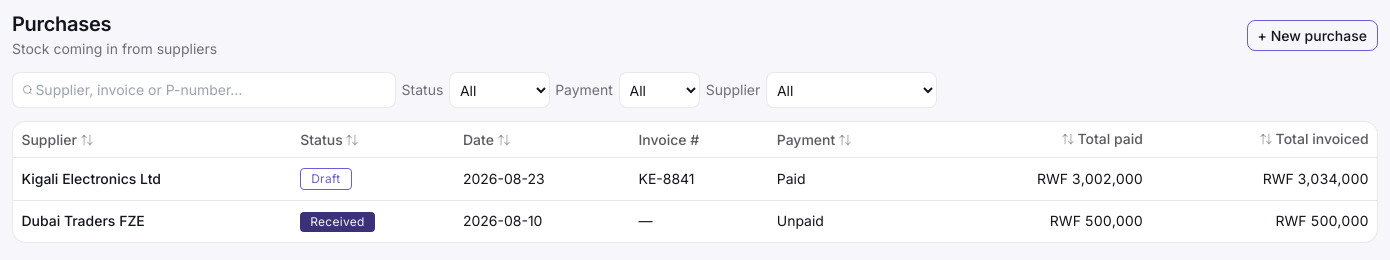
Scenario: PurchasesPageClient › filters by search text across supplier and invoice number
Type "dubai" into the search field named "Search purchases" at (204, 90), box [12, 72, 396, 108]
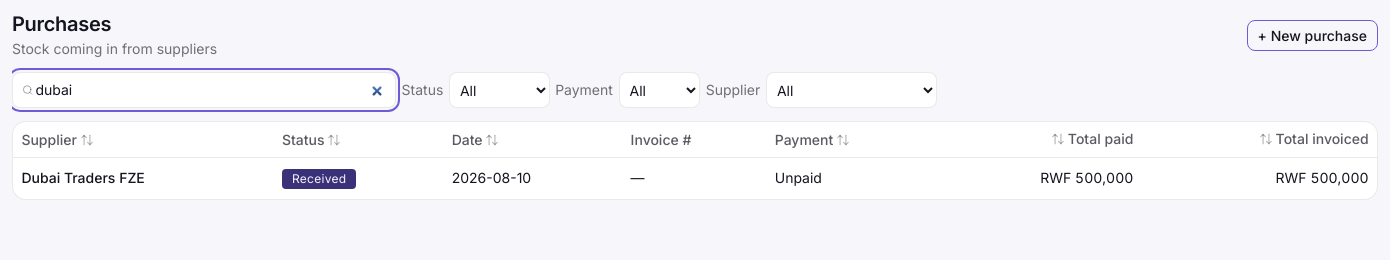
Check: the link "Dubai Traders FZE" is shown, box [21, 169, 145, 186]
Check: the link "Kigali Electronics Ltd" is gone
